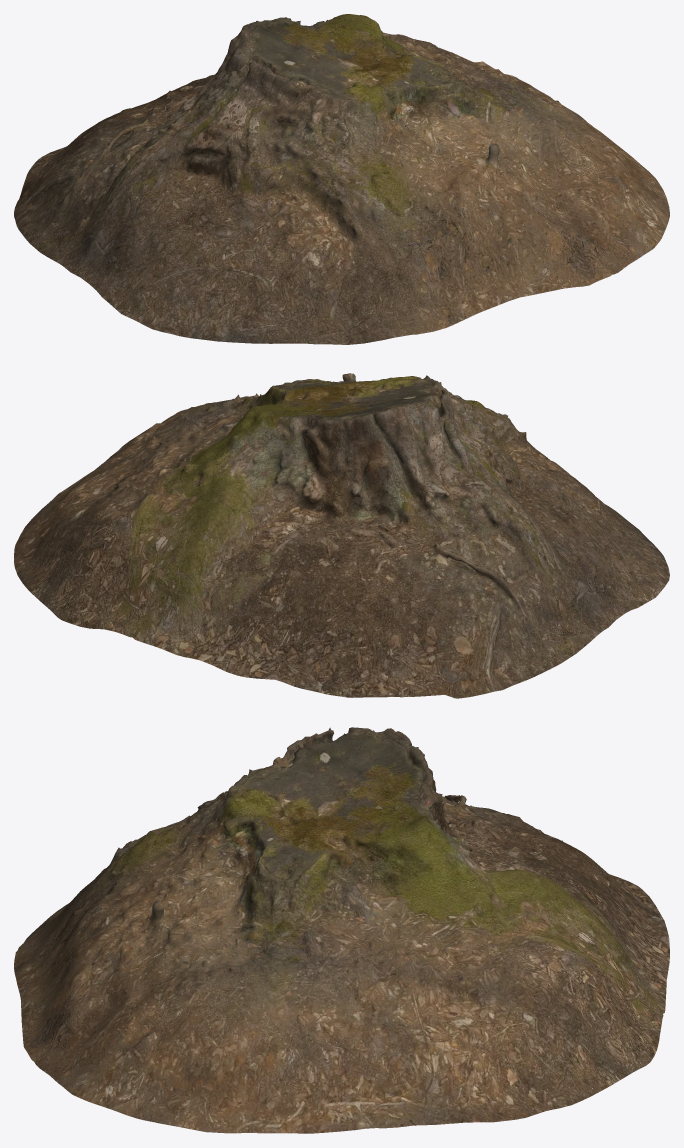
File: tree_stump_02.glb
The picture shows the model from 3 angles, top to bottom: view 1: azimuth 30°, elevation 25°; view 2: azimuth 150°, elevation 25°; view 3: azimuth 270°, elevation 25°; orthographic projection. The views are drawn at different scales.
Parts seen in each view (by area): view 1: tree_stump_02; view 2: tree_stump_02; view 3: tree_stump_02.
Boxes of the visible parts, x1,y1,x2,y2 form: tree_stump_02: (14, 14, 669, 344); tree_stump_02: (14, 373, 669, 698); tree_stump_02: (14, 727, 669, 1133).
Bounding box in the file's own units: 1.52 × 0.522 × 1.39.
1 material, 1 textured.
